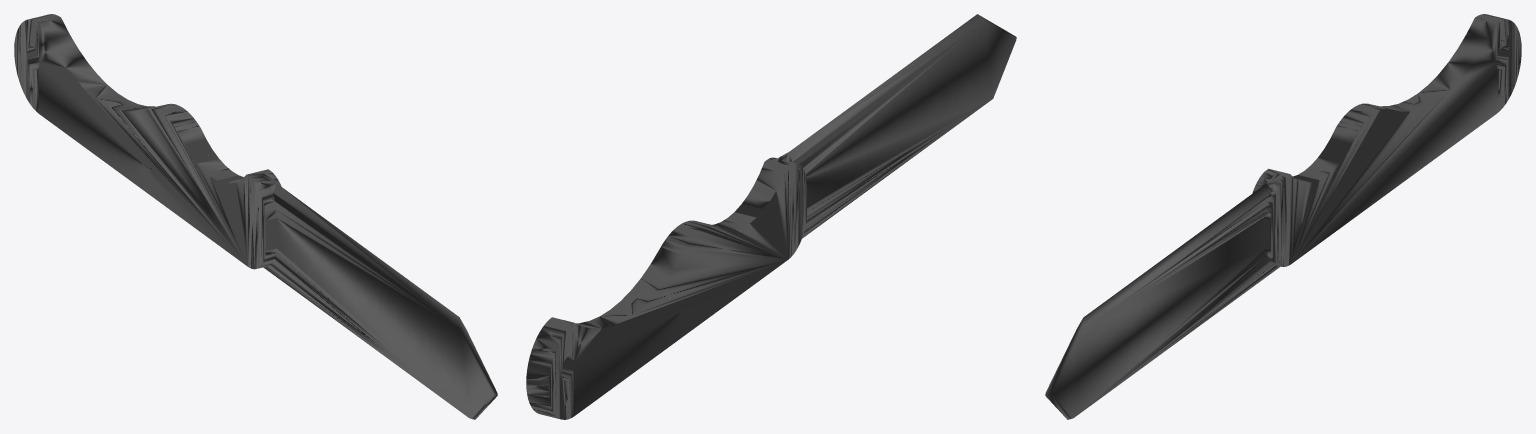
The model's file is model_align.obj.
The picture shows the model from 3 angles, left to right: view 1: azimuth 30°, elevation 25°; view 2: azimuth 150°, elevation 25°; view 3: azimuth 330°, elevation 25°; orthographic projection. The views are drawn at different scales.
Size of the model in its own units: 0.00637 by 0.0255 by 0.2377.
